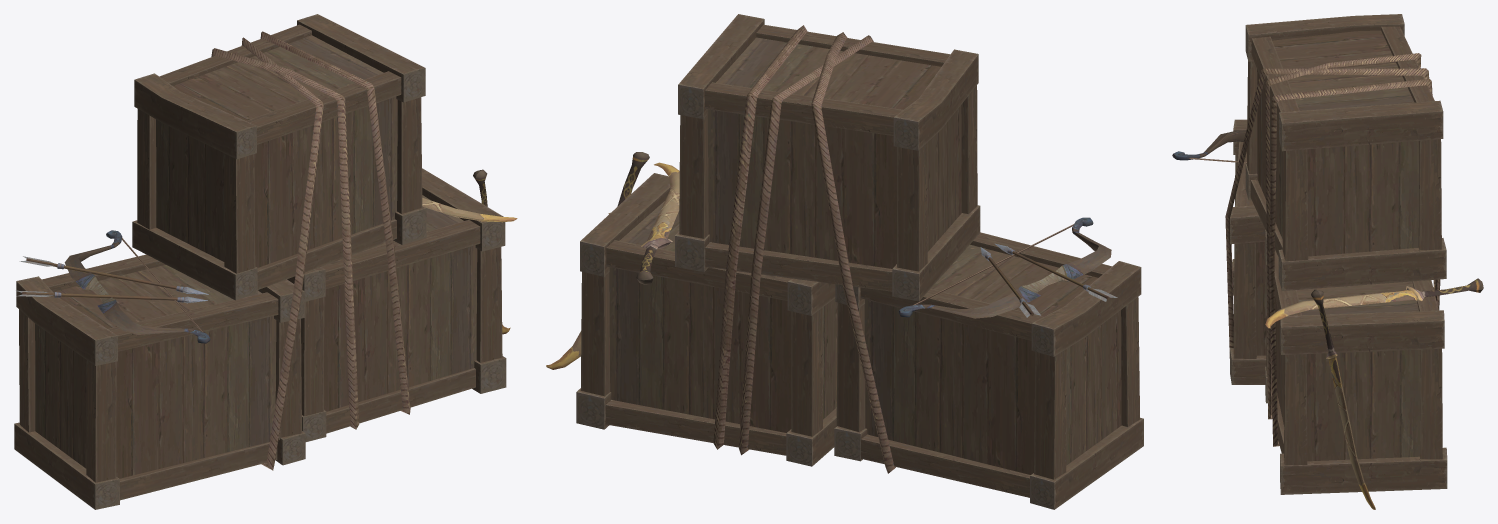
Rendered from Homeworld_Exterior_Xm_Decoration_Prop_TentBox_01_Lod0.fbx.
3 views of the same model, side by side, from view 1: azimuth 30°, elevation 25°; view 2: azimuth 150°, elevation 25°; view 3: azimuth 270°, elevation 25° (orthographic). The views are drawn at different scales.
Visible parts, largest first — view 1: Homeworld_Exterior_Xm_Decoration_Prop_TentBox_01_Lod0; view 2: Homeworld_Exterior_Xm_Decoration_Prop_TentBox_01_Lod0; view 3: Homeworld_Exterior_Xm_Decoration_Prop_TentBox_01_Lod0.
Part boxes in pixels (x1,y1,x2,y2): Homeworld_Exterior_Xm_Decoration_Prop_TentBox_01_Lod0: [14, 14, 517, 509]; Homeworld_Exterior_Xm_Decoration_Prop_TentBox_01_Lod0: [546, 14, 1143, 509]; Homeworld_Exterior_Xm_Decoration_Prop_TentBox_01_Lod0: [1172, 14, 1483, 509].
Size of the model in its own units: 2.44 by 1.58 by 1.3.
